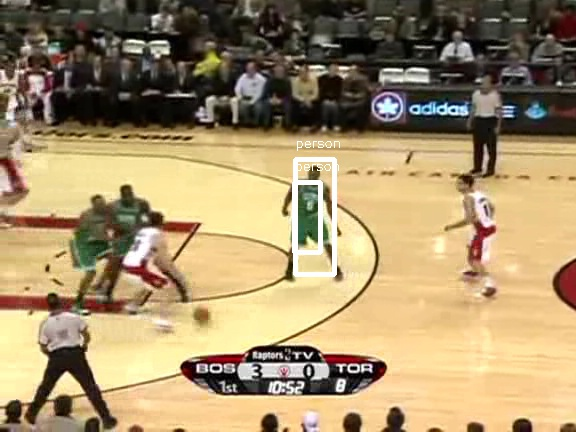person: (293, 173, 327, 254), (292, 173, 326, 254), (294, 173, 328, 254), (293, 172, 327, 253), (293, 174, 327, 255)
target_negative: (104, 244, 236, 382), (212, 229, 277, 417), (402, 202, 509, 280), (318, 314, 489, 345), (381, 391, 385, 425)
